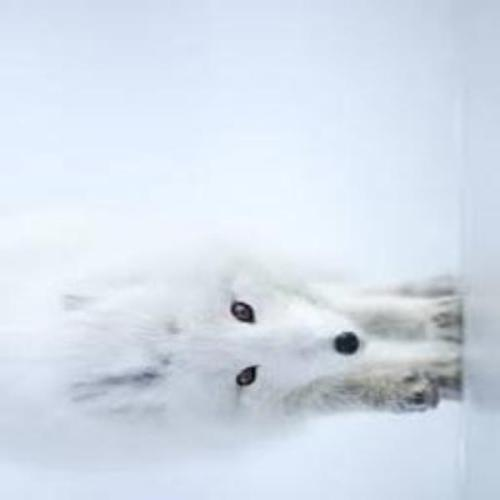arctic_fox-endangered: (54, 248, 465, 436)
